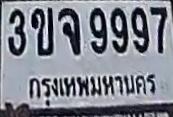3: (7, 8, 25, 55)
7: (149, 6, 166, 53)
9: (89, 7, 107, 53), (130, 6, 148, 52), (110, 7, 127, 52)
A02: (31, 7, 53, 55)
A08: (58, 7, 80, 54)
BKK: (21, 68, 156, 104)
